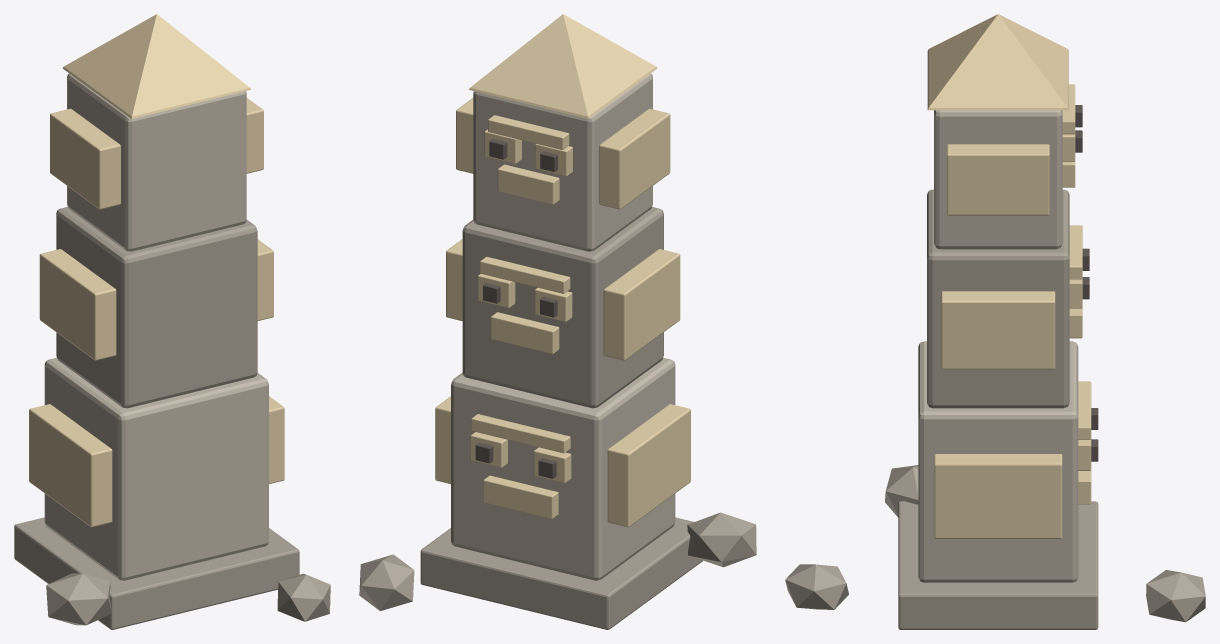
File: 45-Arte3D_totem_isla.glb
3 renders of one model, left to right at view 1: azimuth 30°, elevation 25°; view 2: azimuth 150°, elevation 25°; view 3: azimuth 270°, elevation 25°, orthographic. The views are drawn at different scales.
Parts seen in each view (by area): view 1: SM_Totem_Cuerpo1, SM_Totem_Cuerpo2, SM_Totem_Cuerpo3, SM_Totem_Basamento, SM_Totem_Remate, SM_Totem_Cuerpo1_Ala_I, SM_Totem_Cuerpo2_Ala_I, SM_Totem_Cuerpo3_Ala_I, SM_Totem_Roca_3, SM_Totem_Roca_2, SM_Totem_Cuerpo1_Ala_D, SM_Totem_Cuerpo2_Ala_D (+1 smaller); view 2: SM_Totem_Cuerpo1, SM_Totem_Cuerpo2, SM_Totem_Cuerpo3, SM_Totem_Basamento, SM_Totem_Remate, SM_Totem_Cuerpo1_Ala_I, SM_Totem_Cuerpo2_Ala_I, SM_Totem_Cuerpo3_Ala_I, SM_Totem_Roca_3, SM_Totem_Roca_1, SM_Totem_Cuerpo1_Boca, SM_Totem_Cuerpo2_Boca (+13 smaller); view 3: SM_Totem_Cuerpo1, SM_Totem_Cuerpo2, SM_Totem_Basamento, SM_Totem_Remate, SM_Totem_Cuerpo1_Ala_D, SM_Totem_Cuerpo3, SM_Totem_Cuerpo2_Ala_D, SM_Totem_Cuerpo3_Ala_D, SM_Totem_Roca_1, SM_Totem_Roca_2, SM_Totem_Roca_3, SM_Totem_Cuerpo1_Ceja (+1 smaller).
Part boxes in pixels (x1=…): SM_Totem_Cuerpo1: x1=44, y1=358, x2=268, y2=580; SM_Totem_Cuerpo2: x1=56, y1=207, x2=257, y2=408; SM_Totem_Cuerpo3: x1=67, y1=73, x2=246, y2=251; SM_Totem_Basamento: x1=14, y1=517, x2=299, y2=629; SM_Totem_Remate: x1=62, y1=14, x2=250, y2=118; SM_Totem_Cuerpo1_Ala_I: x1=29, y1=404, x2=112, y2=527; SM_Totem_Cuerpo2_Ala_I: x1=39, y1=249, x2=116, y2=360; SM_Totem_Cuerpo3_Ala_I: x1=50, y1=108, x2=120, y2=209; SM_Totem_Roca_3: x1=46, y1=573, x2=111, y2=625; SM_Totem_Roca_2: x1=277, y1=573, x2=330, y2=621; SM_Totem_Cuerpo1_Ala_D: x1=269, y1=396, x2=284, y2=483; SM_Totem_Cuerpo2_Ala_D: x1=257, y1=239, x2=273, y2=320; SM_Totem_Cuerpo1: x1=451, y1=358, x2=675, y2=580; SM_Totem_Cuerpo2: x1=462, y1=207, x2=663, y2=408; SM_Totem_Cuerpo3: x1=473, y1=73, x2=652, y2=251; SM_Totem_Basamento: x1=420, y1=517, x2=702, y2=629; SM_Totem_Remate: x1=469, y1=14, x2=657, y2=118; SM_Totem_Cuerpo1_Ala_I: x1=607, y1=404, x2=690, y2=527; SM_Totem_Cuerpo2_Ala_I: x1=603, y1=249, x2=680, y2=360; SM_Totem_Cuerpo3_Ala_I: x1=599, y1=108, x2=670, y2=209; SM_Totem_Roca_3: x1=687, y1=512, x2=756, y2=567; SM_Totem_Roca_1: x1=359, y1=554, x2=414, y2=611; SM_Totem_Cuerpo1_Boca: x1=483, y1=475, x2=558, y2=518; SM_Totem_Cuerpo2_Boca: x1=491, y1=312, x2=559, y2=354; SM_Totem_Cuerpo1: x1=918, y1=341, x2=1078, y2=582; SM_Totem_Cuerpo2: x1=927, y1=189, x2=1069, y2=408; SM_Totem_Basamento: x1=898, y1=501, x2=1098, y2=629; SM_Totem_Remate: x1=927, y1=14, x2=1068, y2=110; SM_Totem_Cuerpo1_Ala_D: x1=934, y1=454, x2=1062, y2=538; SM_Totem_Cuerpo3: x1=934, y1=110, x2=1062, y2=249; SM_Totem_Cuerpo2_Ala_D: x1=941, y1=291, x2=1055, y2=369; SM_Totem_Cuerpo3_Ala_D: x1=947, y1=144, x2=1049, y2=215; SM_Totem_Roca_1: x1=1146, y1=570, x2=1205, y2=622; SM_Totem_Roca_2: x1=785, y1=564, x2=848, y2=609; SM_Totem_Roca_3: x1=885, y1=465, x2=918, y2=517; SM_Totem_Cuerpo1_Ceja: x1=1078, y1=381, x2=1091, y2=439.
Bounding box in the file's own units: 1.11 × 2.2 × 1.47.
